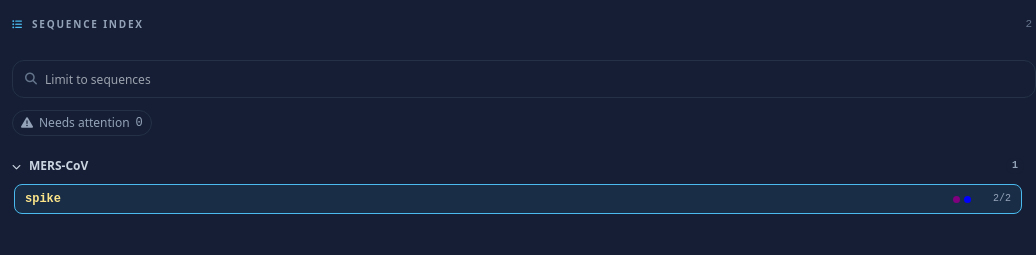
Scenario: shows each feature as one compact row without changing the jump
The image size is (1036, 255).
Check: the text "2/2" is shown, box [993, 193, 1011, 204]
Click the button with aria-label "spike · in 2 of 2" at (43, 199), box [14, 184, 1022, 214]
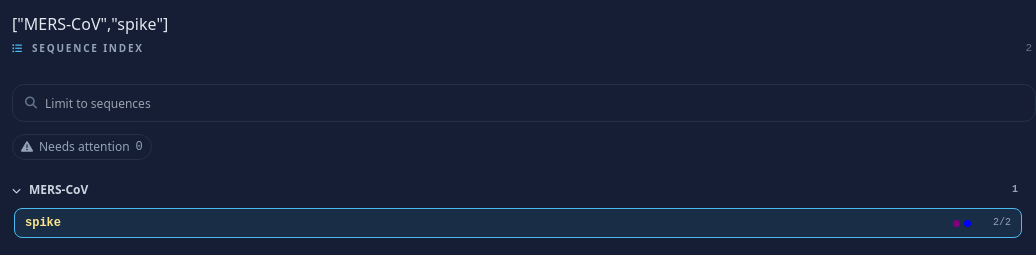
Check: the text named "Feature jump" reads "[\"MERS-CoV\",\"spike\"]", box [12, 13, 168, 35]
